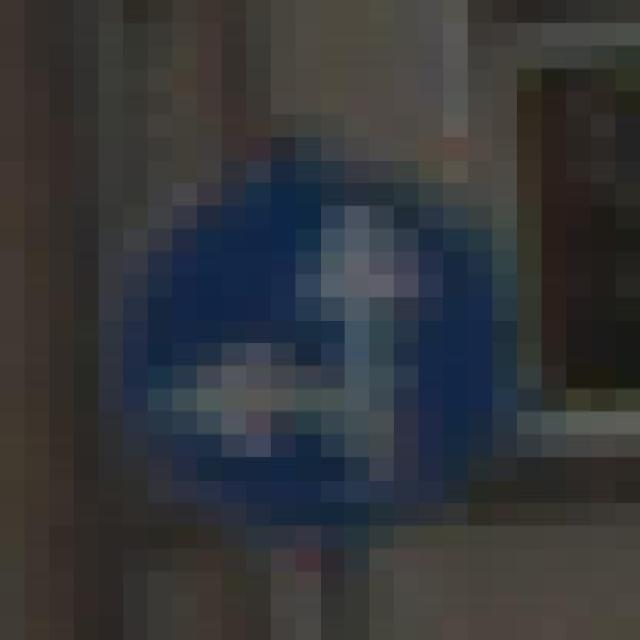Go straight or turn left: (98, 91, 591, 572)
